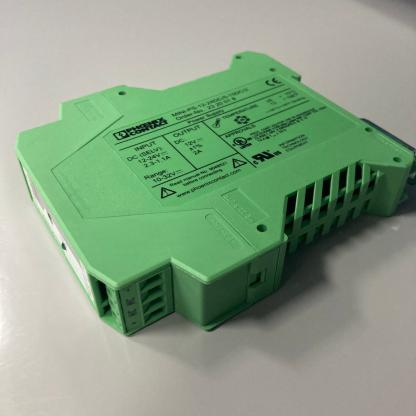SP0000011: (3, 33, 415, 354)
